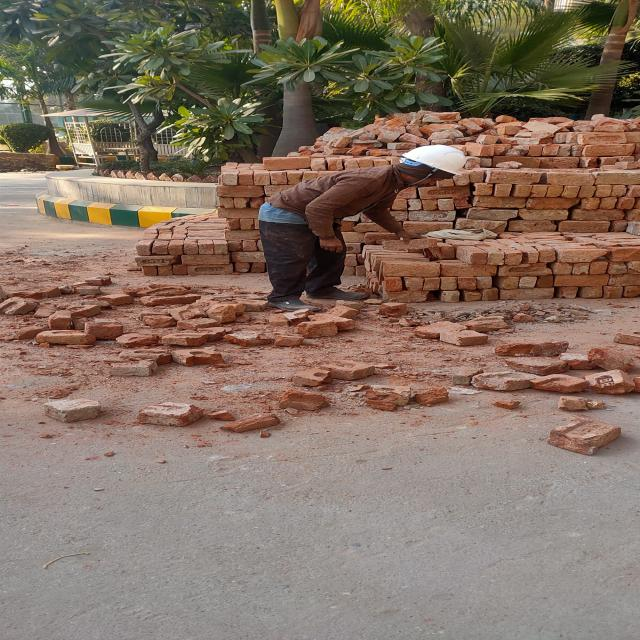no jacket: (259, 145, 469, 311)
